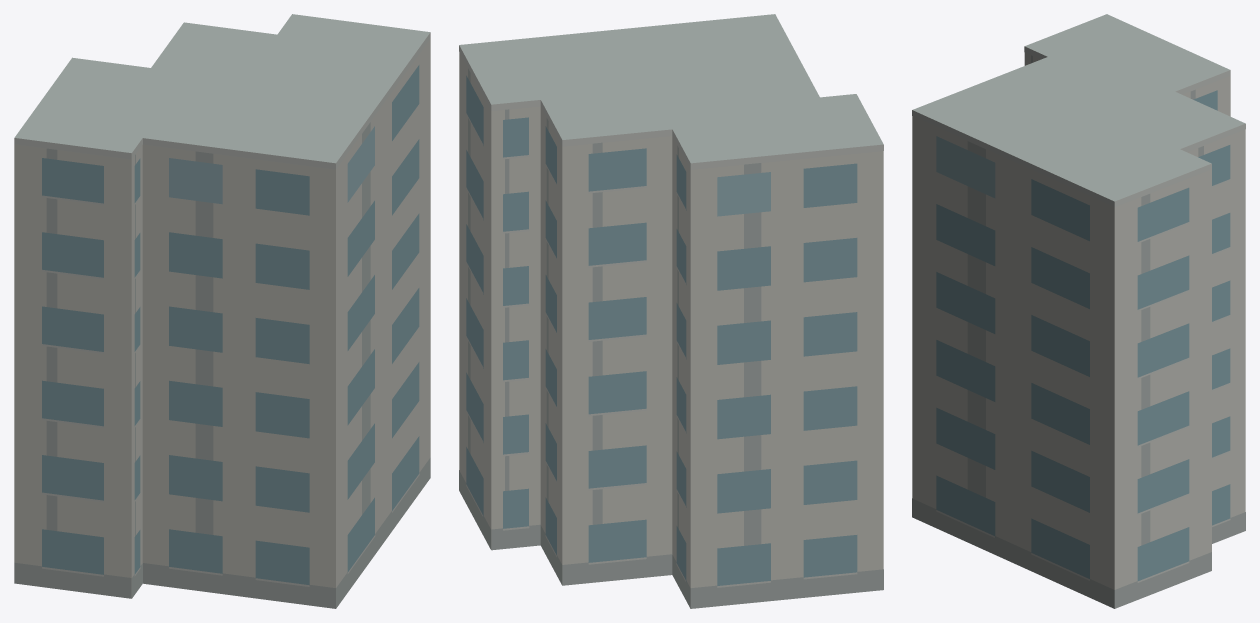
File: survey-upis-32824952.glb
3 views of the same model, side by side, from view 1: azimuth 30°, elevation 25°; view 2: azimuth 150°, elevation 25°; view 3: azimuth 270°, elevation 25° (orthographic). The views are drawn at different scales.
Parts seen in each view (by area): view 1: survey-upis-32824952.tmp; view 2: survey-upis-32824952.tmp; view 3: survey-upis-32824952.tmp.
Boxes of the visible parts, left/top/right/bottom form: survey-upis-32824952.tmp: left=14, top=14, right=430, bottom=608; survey-upis-32824952.tmp: left=459, top=14, right=883, bottom=608; survey-upis-32824952.tmp: left=912, top=14, right=1245, bottom=608.
Size of the model in its own units: 16.6 by 16.8 by 12.48.
